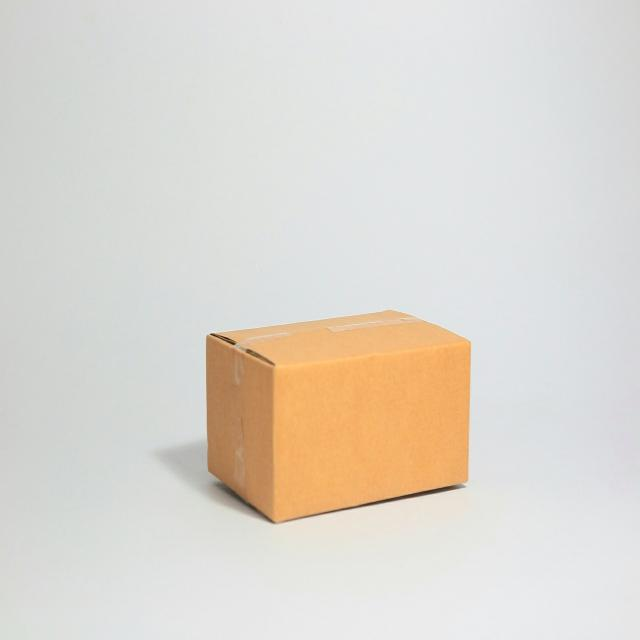box: (198, 284, 473, 536)
